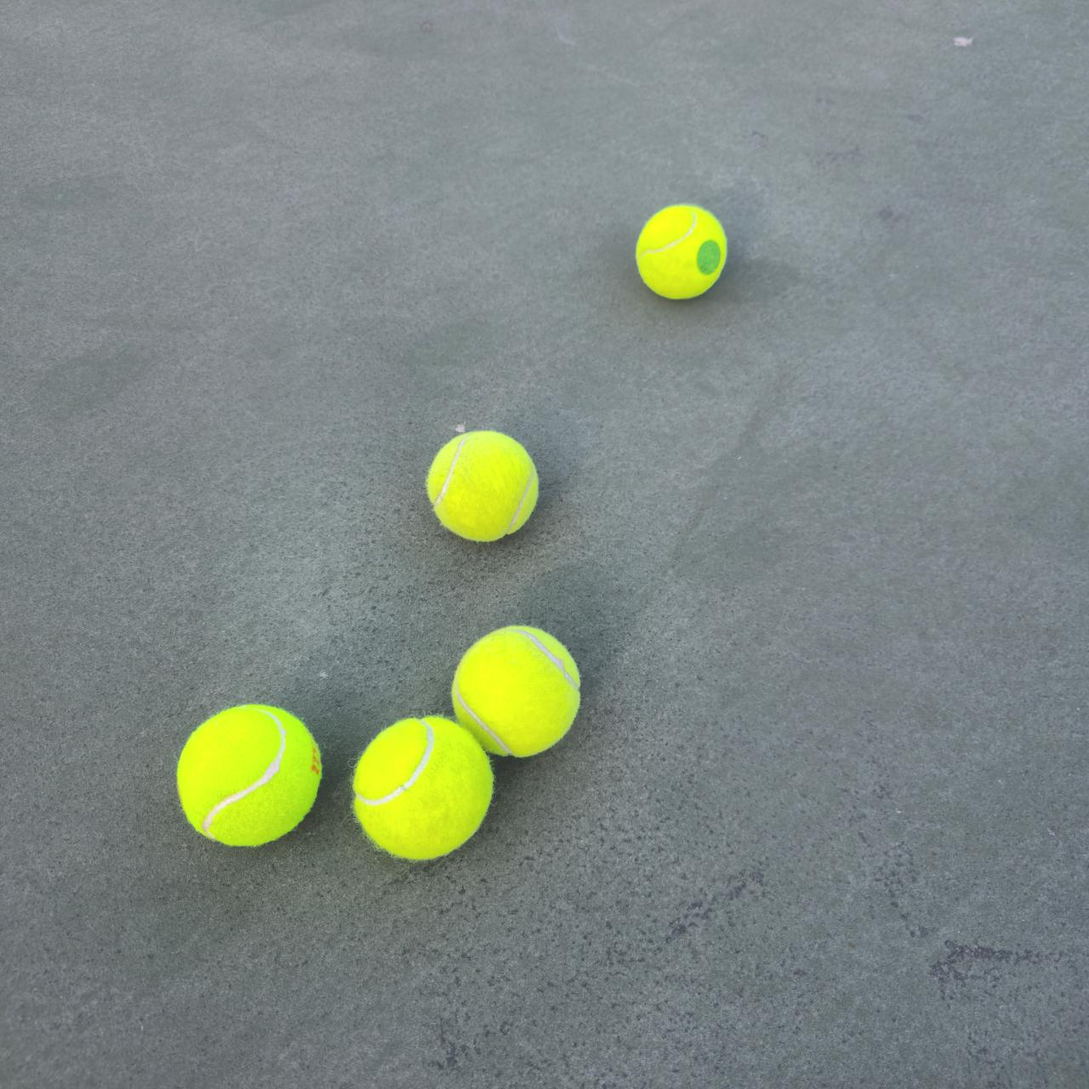tennis-ball: (174, 700, 322, 848), (350, 712, 494, 862), (450, 622, 582, 759), (424, 427, 540, 544), (633, 201, 729, 301)
